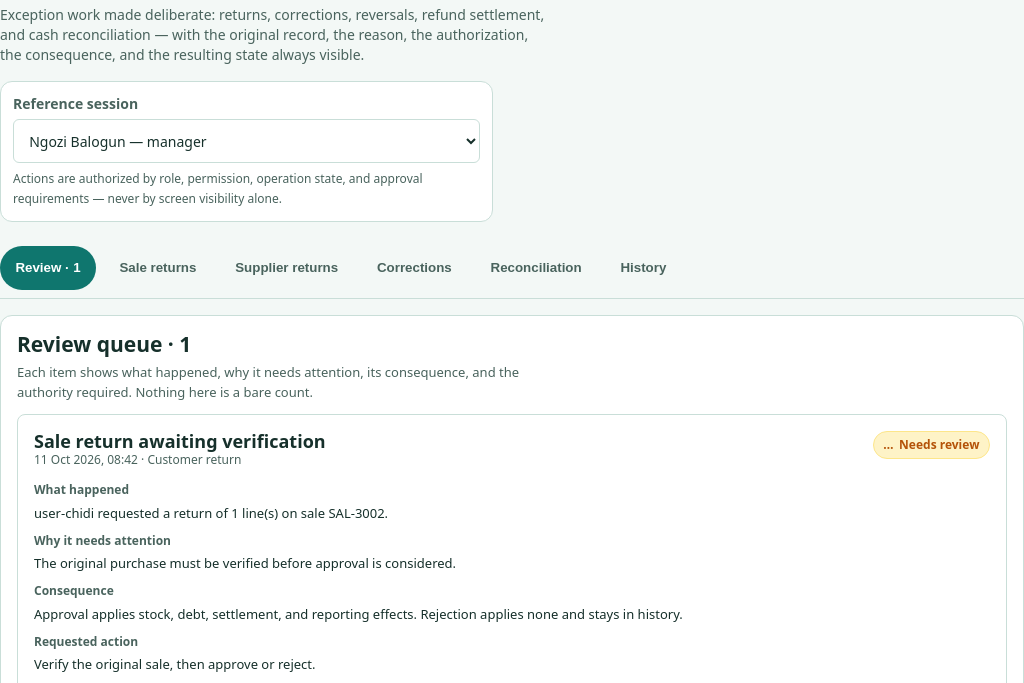
Exceptions & reconciliation workspace › rejects a return with no business effect and keeps it visible
What coordinates should you click on to do the following:
click the tab "Sale returns"
I would click on:
 (158, 268)
Its box is [104,246,212,290].
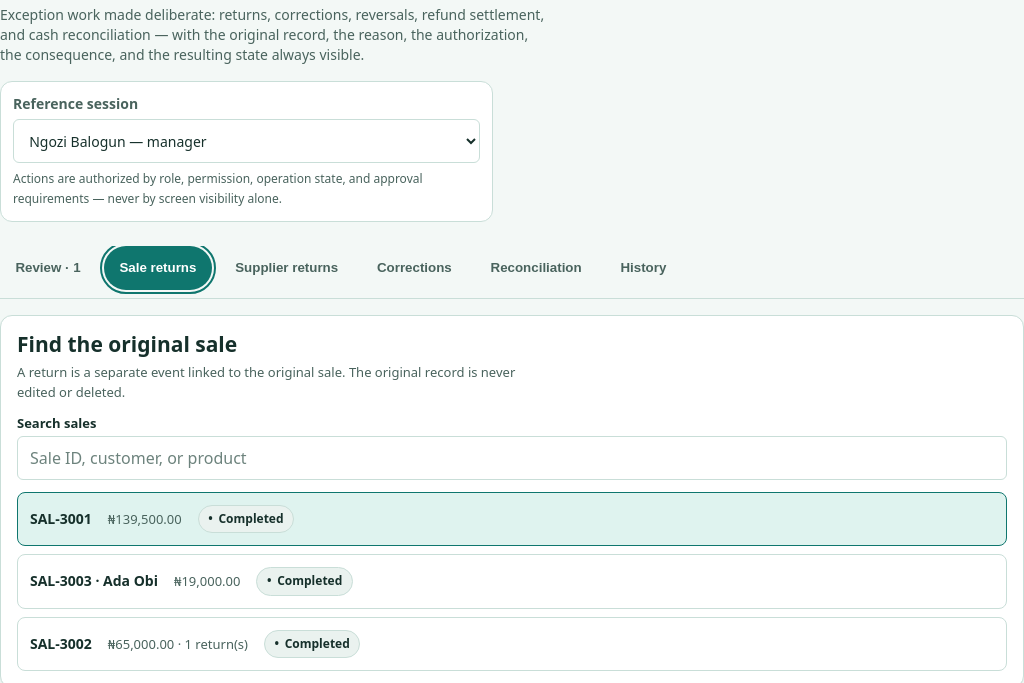
What coordinates should you click on to do the following:
click the button "SAL-3002 ₦65,000.00 · 1 return(s) • Completed"
I would click on:
 (61, 643)
Its box is [17,616,1007,671].
(page scrolled)
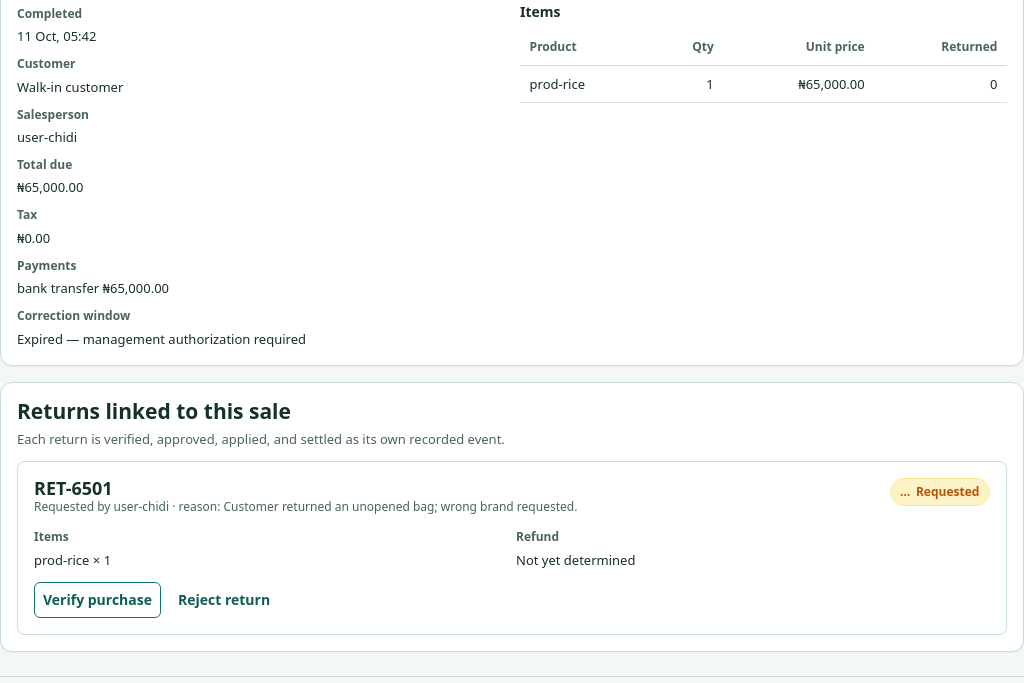
What coordinates should you click on to do the following:
click the button "Reject return"
I would click on:
 (224, 600)
Its box is [169,582,279,618].
(page scrolled)
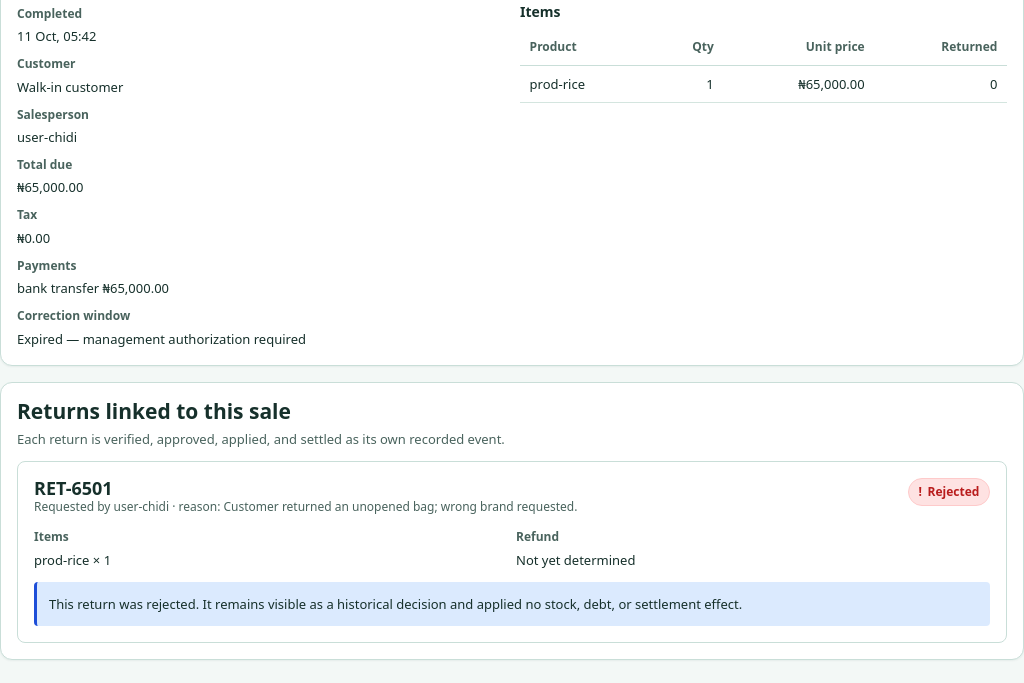
Expected: the text "Rejected" is shown, [928,483,979,500]
Expected: the text "remains visible as a historical decision and applied no stock, debt, or settlement effect" is shown, [49,595,742,613]
